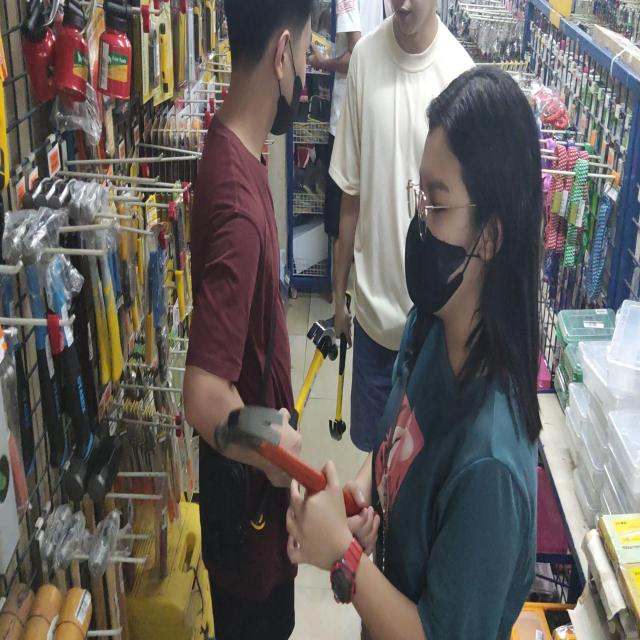hammer: (217, 404, 381, 528), (248, 320, 337, 530), (328, 290, 350, 442)
